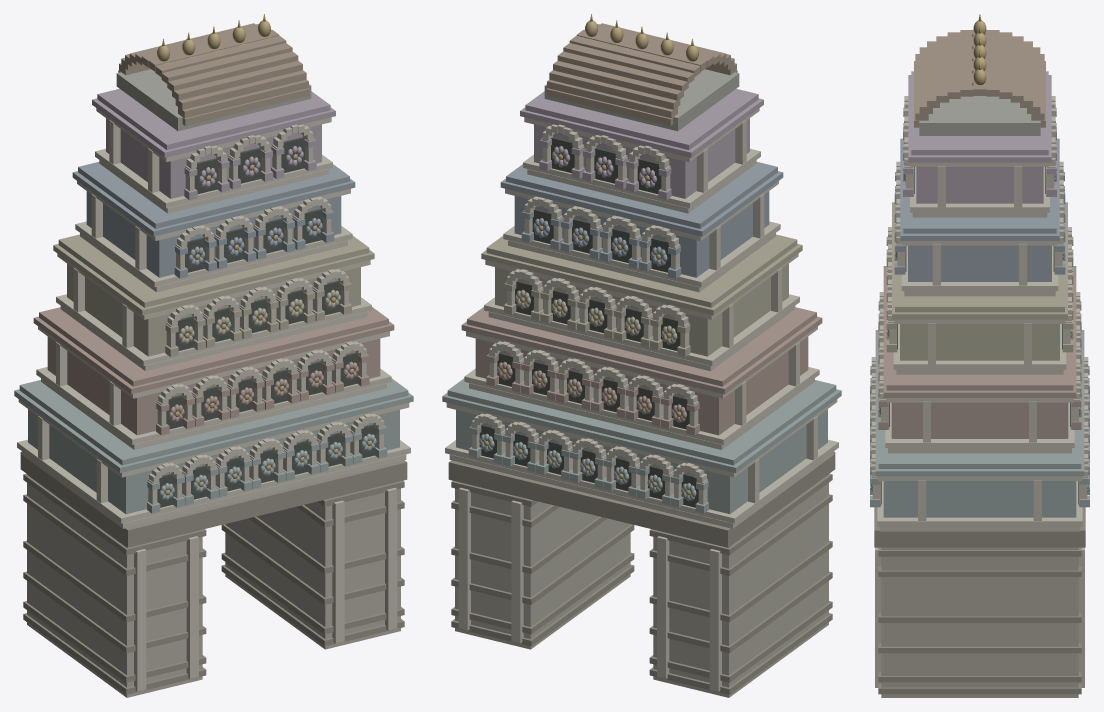
Rendered from temple_gateway.glb.
The picture shows the model from 3 angles, left to right: view 1: azimuth 30°, elevation 25°; view 2: azimuth 150°, elevation 25°; view 3: azimuth 270°, elevation 25°; orthographic projection.
Parts seen in each view (by area): view 1: temple_gateway; view 2: temple_gateway; view 3: temple_gateway.
Part boxes in pixels (x1,y1,x2,y2): temple_gateway: (14, 14, 413, 697); temple_gateway: (442, 14, 841, 697); temple_gateway: (870, 14, 1089, 697).
Bounding box in the file's own units: 8.15 × 15.95 × 5.35.
